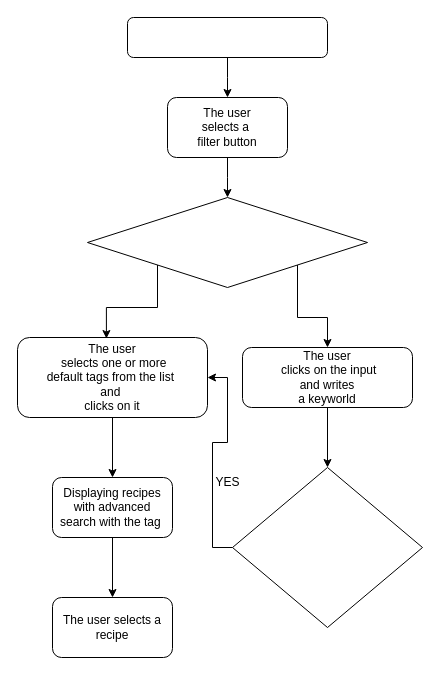
This 440x675 diagram has some shape labels left out. Here are the shapes that lost their labels. From the top down, the centre of each, then its label:
pixel 227 37: Nominal Scenario
pixel 227 242: The user chooses either the input or the list to choose a tag
pixel 327 547: Depending on what the user writes in the input, an event happens in the list
